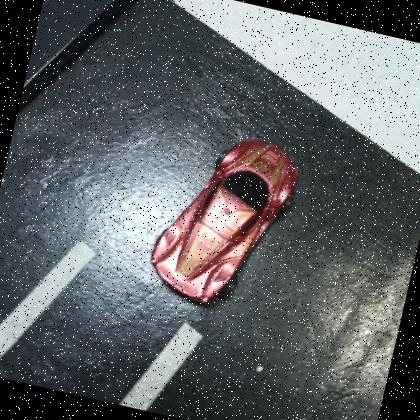Car: (143, 122, 308, 320)
